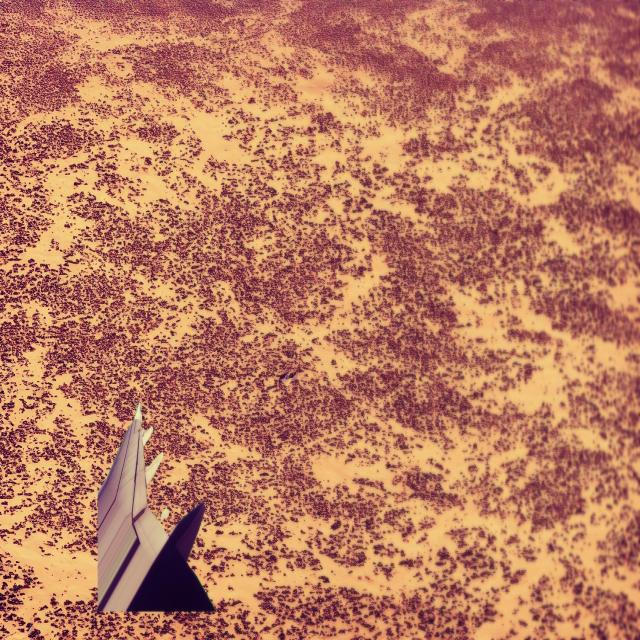airplane: (96, 401, 215, 614)
